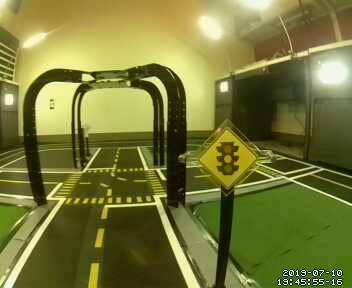Traffic light sign: (198, 130, 255, 188)
